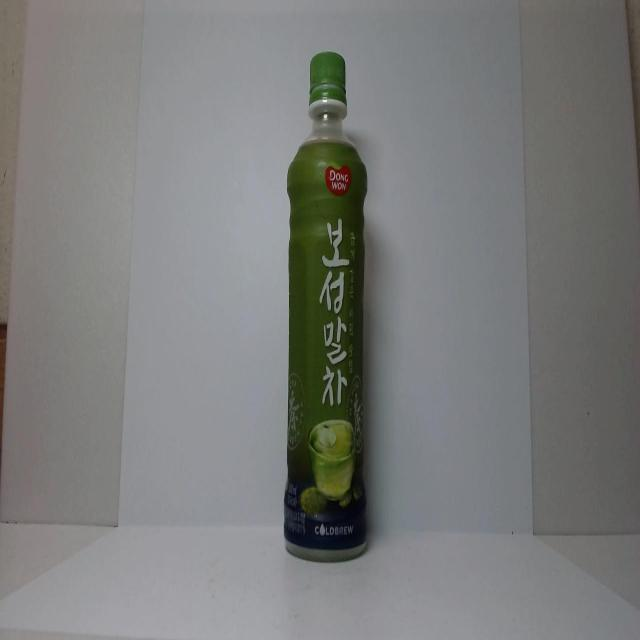bottle: (276, 38, 372, 576)
